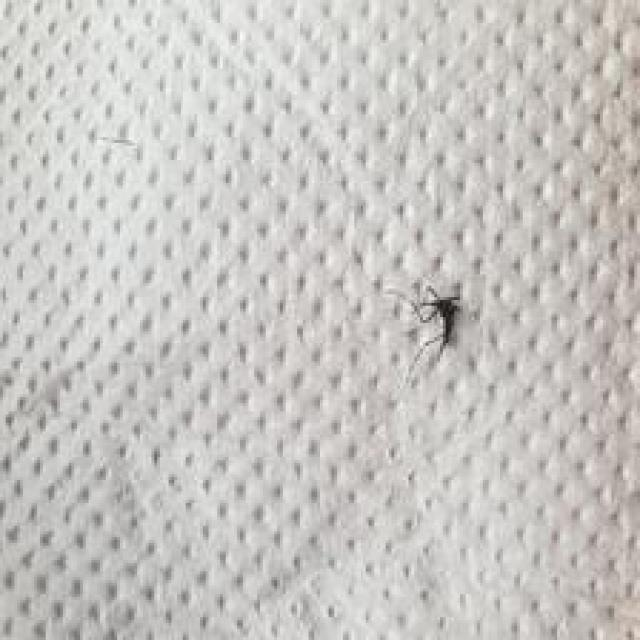Aedes albopictus: (404, 284, 462, 387)
